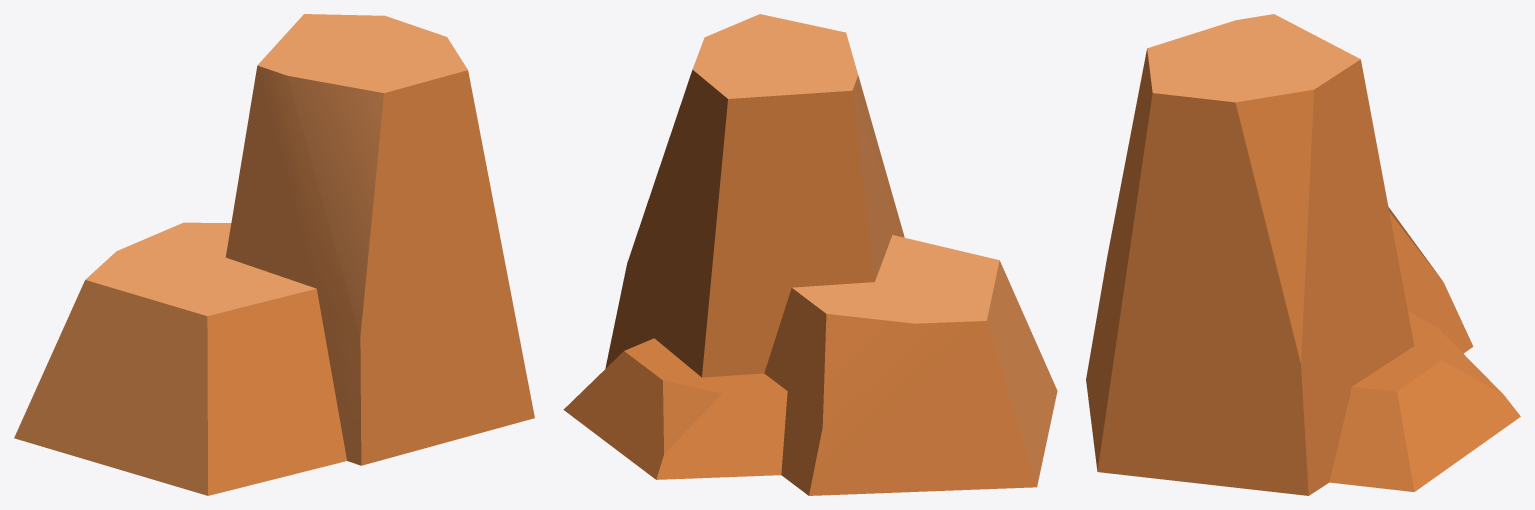
File: rockA2.fbx
3 renders of one model, left to right at view 1: azimuth 30°, elevation 25°; view 2: azimuth 150°, elevation 25°; view 3: azimuth 270°, elevation 25°, orthographic. The views are drawn at different scales.
Visible parts, largest first — view 1: rockA2; view 2: rockA2; view 3: rockA2.
Boxes of the visible parts, x1,y1,x2,y2 form: rockA2: (14,14,534,495); rockA2: (563,14,1057,495); rockA2: (1086,14,1520,495).
Bounding box in the file's own units: 114 × 80.77 × 88.93.
